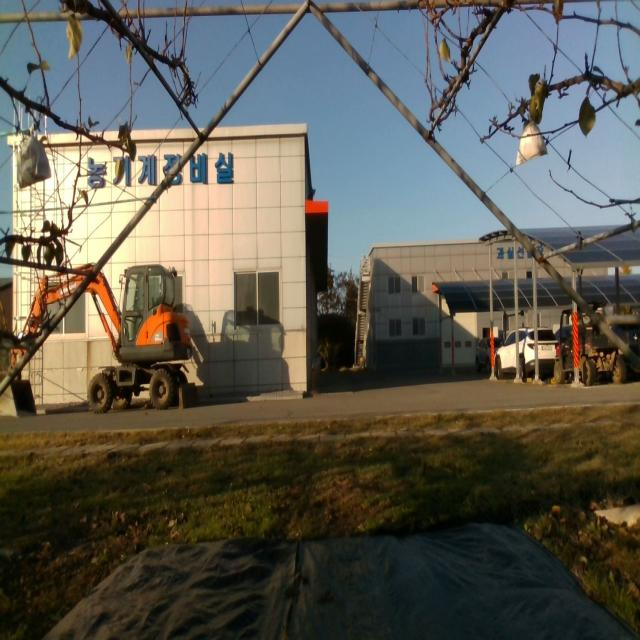pearbags: (17, 126, 51, 187), (516, 122, 547, 166)
